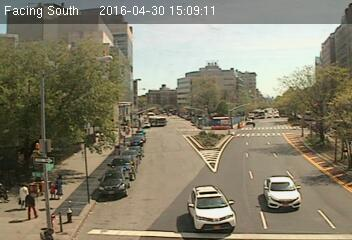neg: (210, 121, 233, 151), (304, 120, 319, 141), (104, 135, 119, 155), (295, 127, 308, 144), (183, 113, 195, 129), (197, 141, 208, 156), (127, 141, 138, 155), (199, 112, 207, 122)
pos: (18, 190, 44, 225), (50, 176, 69, 201), (11, 183, 30, 208), (45, 181, 59, 200)
